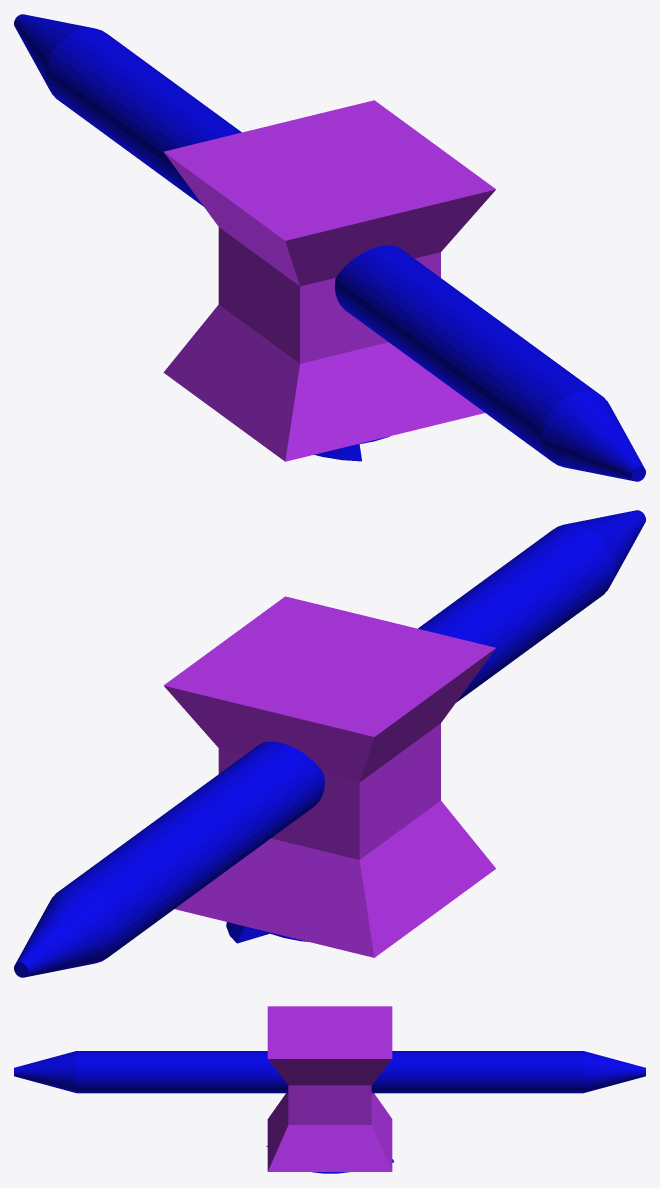
Rendered from Traps1.fbx.
3 renders of one model, top to bottom at view 1: azimuth 30°, elevation 25°; view 2: azimuth 150°, elevation 25°; view 3: azimuth 270°, elevation 25°, orthographic. The views are drawn at different scales.
Visible parts, largest first — view 1: Yerdonen, Ustdonen; view 2: Yerdonen, Ustdonen; view 3: Ustdonen, Yerdonen.
Boxes of the visible parts, x1,y1,x2,y2 form: Yerdonen: [163, 100, 495, 461]; Ustdonen: [14, 14, 645, 481]; Yerdonen: [163, 596, 495, 957]; Ustdonen: [14, 510, 645, 977]; Ustdonen: [14, 1051, 645, 1173]; Yerdonen: [267, 1006, 392, 1171].
Size of the model in its own units: 200 by 216 by 1014.
